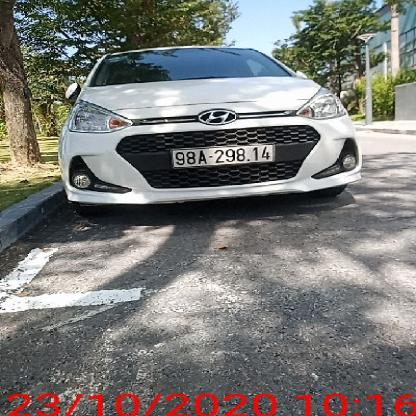biensoxe: (172, 143, 276, 167)
